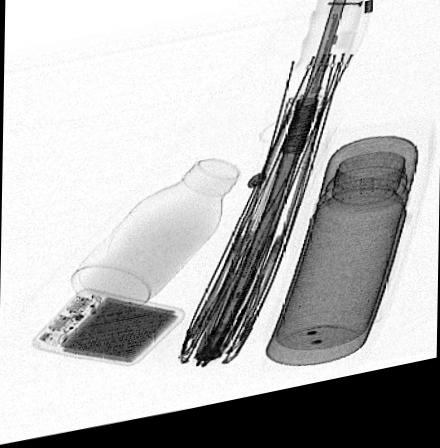Powerbank: (30, 290, 182, 371)
